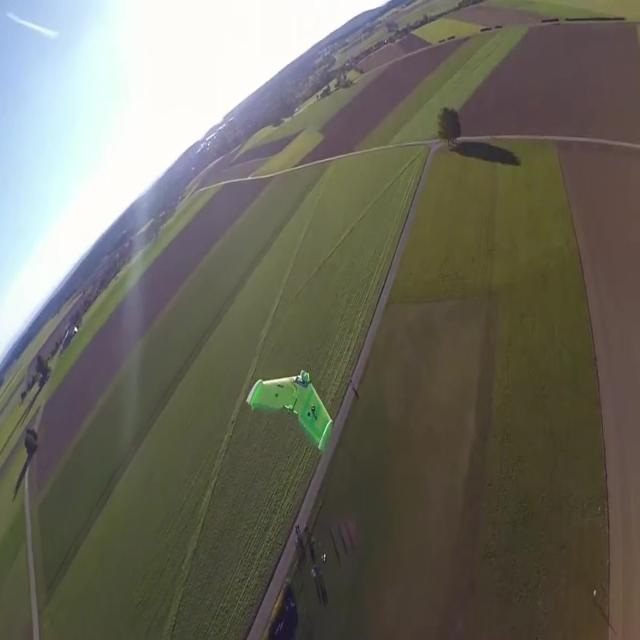iha: (276, 400, 300, 421)
